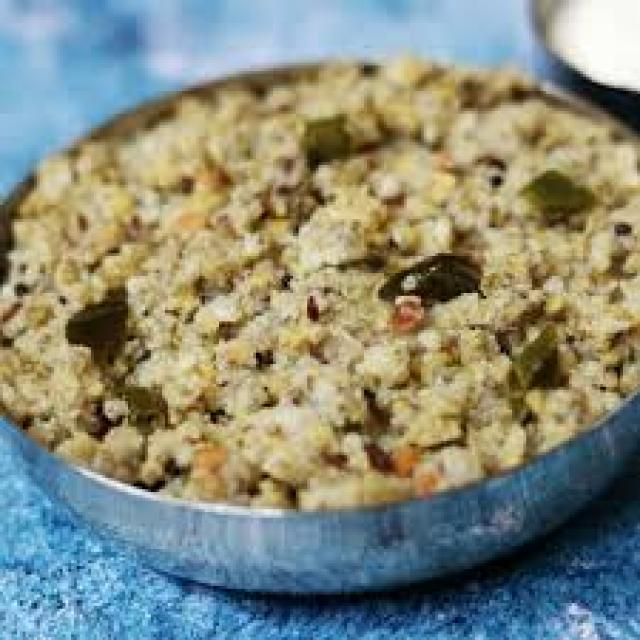UPMA: (0, 57, 637, 503)
